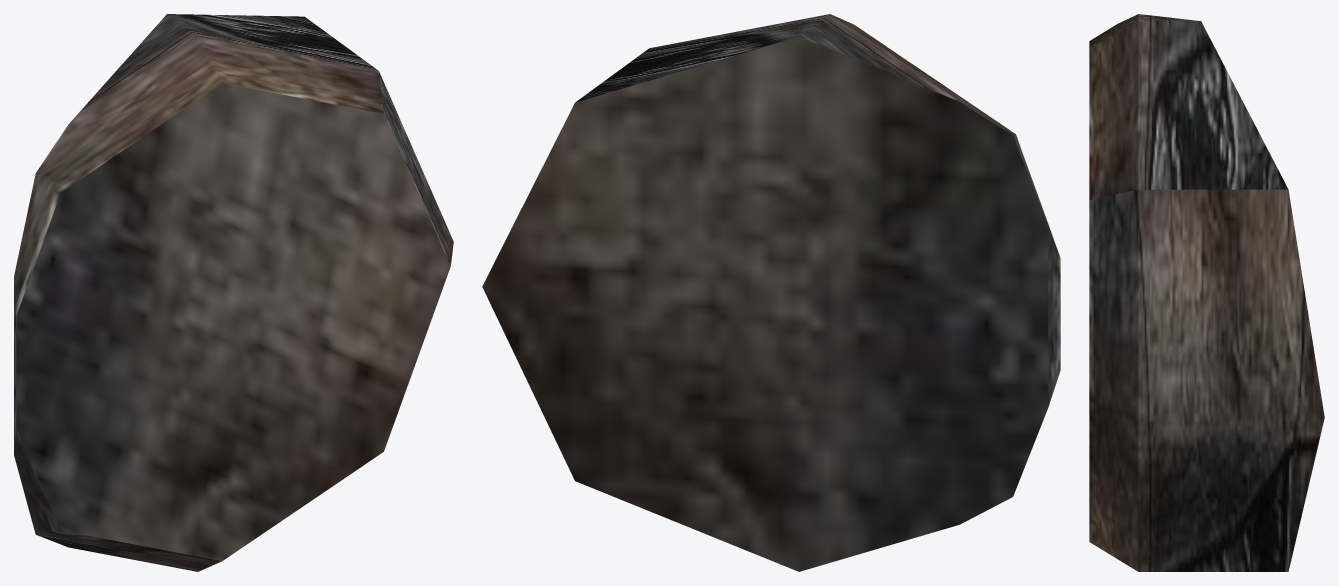
3 views of the same model, side by side, from view 1: azimuth 30°, elevation 25°; view 2: azimuth 150°, elevation 25°; view 3: azimuth 270°, elevation 25° (orthographic).
Visible parts, largest first — view 1: model_Object16; view 2: model_Object16; view 3: model_Object16.
Part boxes in pixels (box(x1,y1,x2,y2)): model_Object16: box(14, 14, 453, 571); model_Object16: box(482, 14, 1060, 571); model_Object16: box(1089, 14, 1324, 571).
Size of the model in its own units: 0.8646 by 0.9573 by 0.3778.
Materials: 1 (1 with a texture image).
